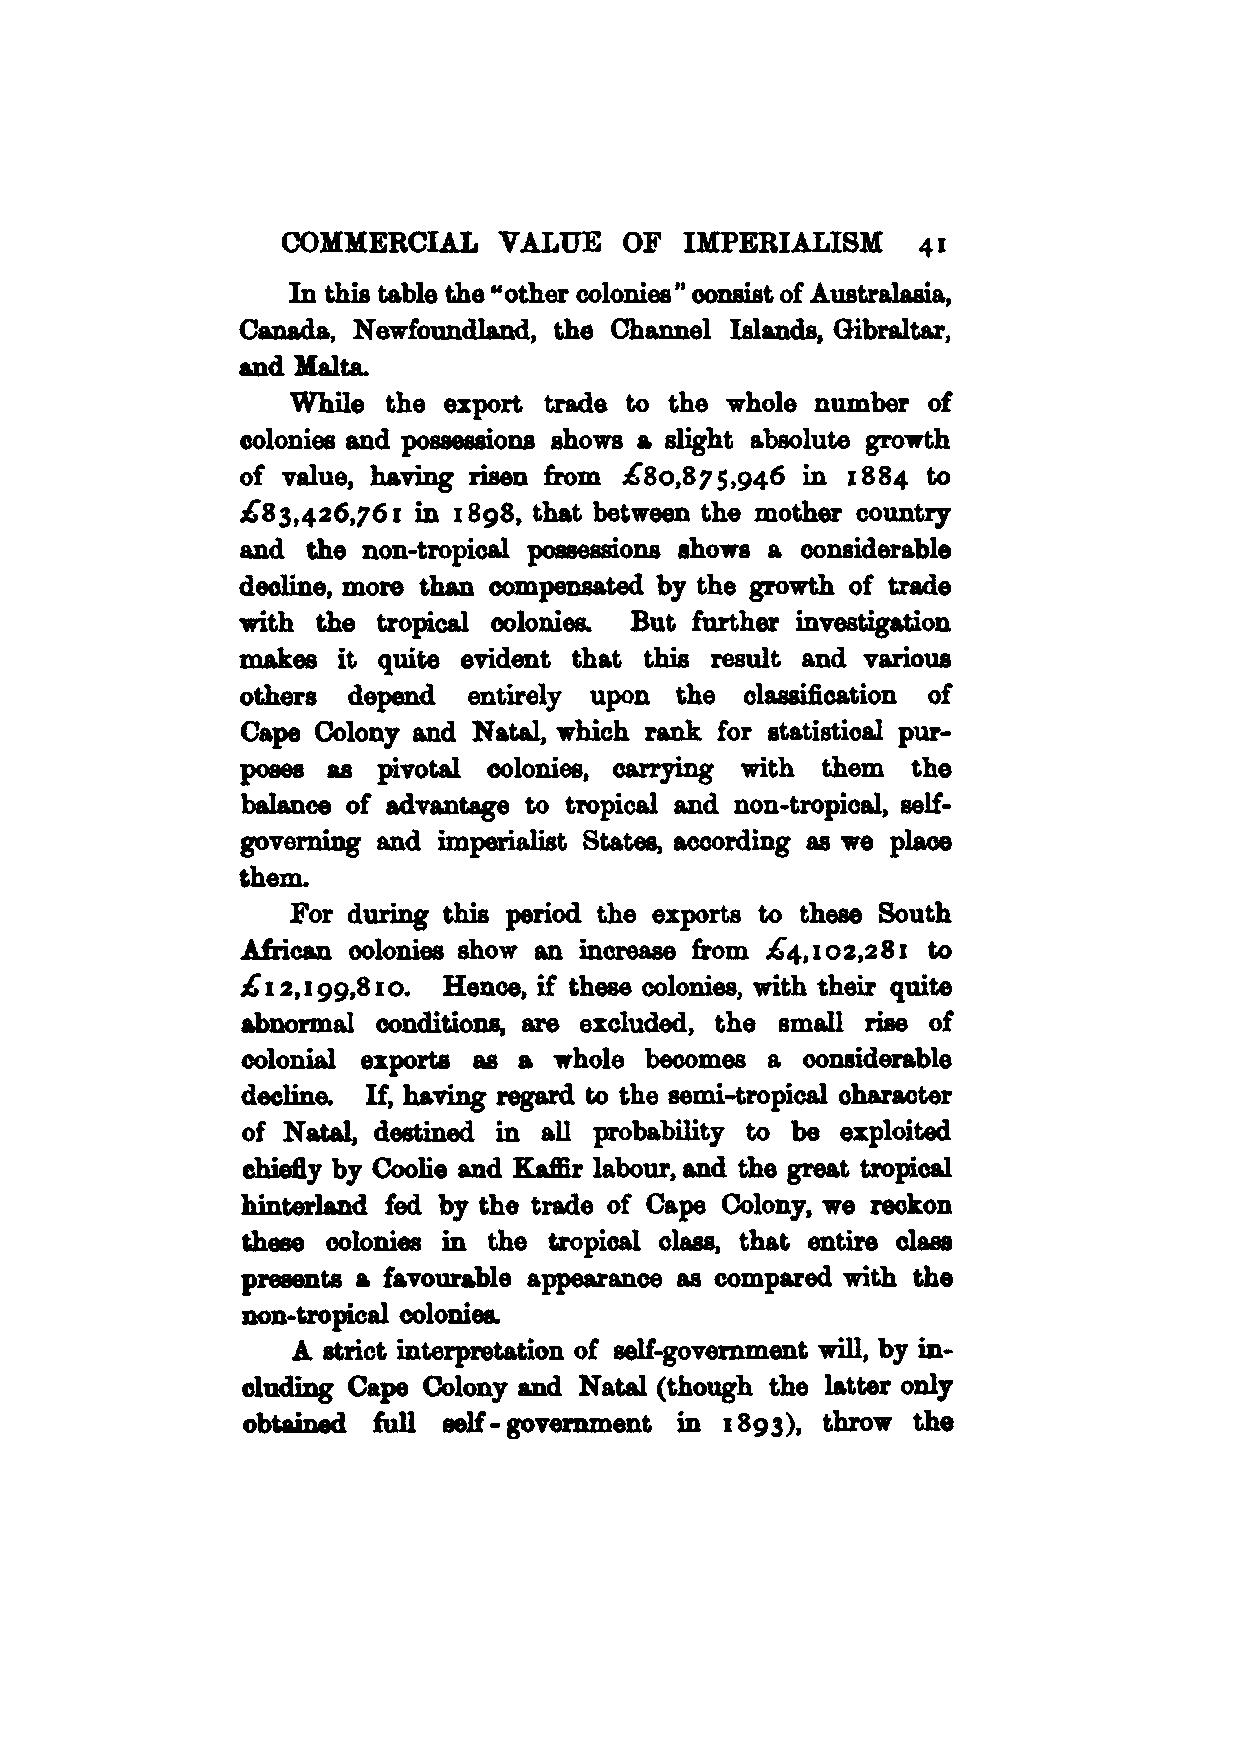content: (234, 274, 958, 1443)
content_chapter: (272, 225, 884, 255)
content_pagenumber: (917, 228, 949, 260)
